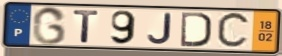9: (109, 9, 137, 46)
C: (215, 10, 252, 51)
D: (180, 11, 214, 48)
G: (31, 5, 68, 46)
J: (146, 12, 173, 46)
T: (72, 9, 102, 44)
